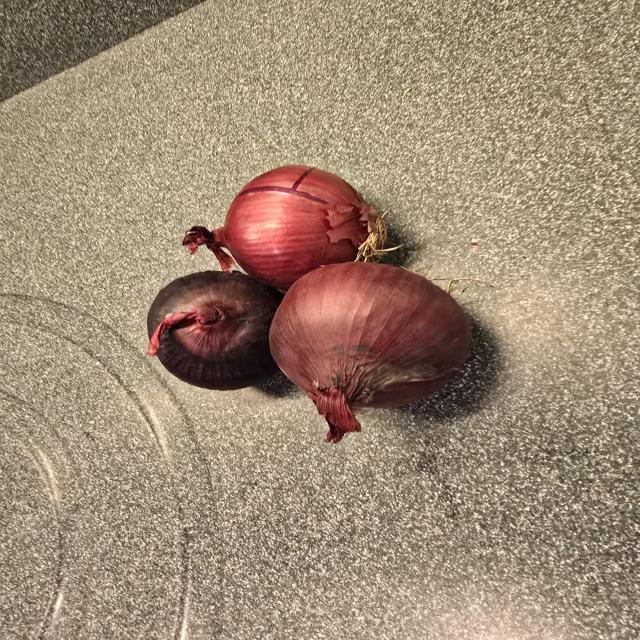Onion: (269, 262, 471, 443), (183, 166, 389, 291), (147, 271, 283, 390)
